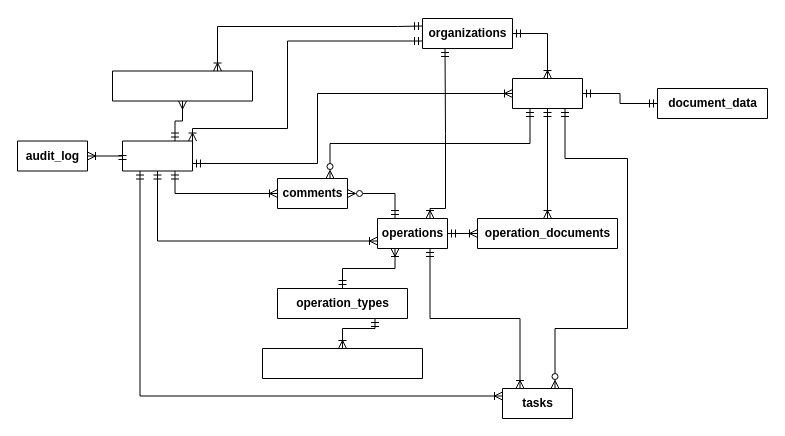
Image size: 785x436. Some labels were removed from this diagram. The centre of each missing label's shape, as x and y in pixels:
accountant_clients: point (182, 85)
documents: point (547, 93)
requiered_documents: point (342, 363)
users: point (157, 155)
